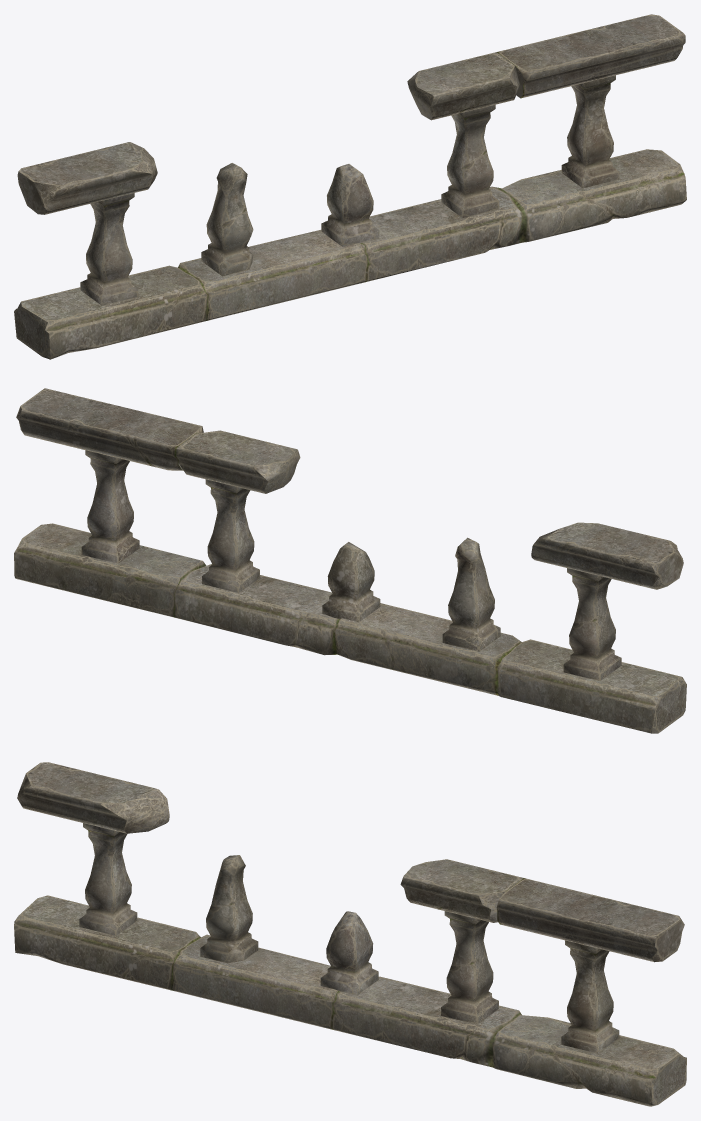
File: SM_Ballustrade_Ruined_01.fbx
The picture shows the model from 3 angles, top to bottom: view 1: azimuth 30°, elevation 25°; view 2: azimuth 150°, elevation 25°; view 3: azimuth 330°, elevation 25°; orthographic projection.
Visible parts, largest first — view 1: SM_Ballustrade_Ruined_01_LOD0; view 2: SM_Ballustrade_Ruined_01_LOD0; view 3: SM_Ballustrade_Ruined_01_LOD0.
Boxes of the visible parts, x1=… form: SM_Ballustrade_Ruined_01_LOD0: x1=14, y1=14, x2=686, y2=359; SM_Ballustrade_Ruined_01_LOD0: x1=14, y1=388, x2=686, y2=733; SM_Ballustrade_Ruined_01_LOD0: x1=14, y1=762, x2=686, y2=1106.
Size of what is drawn, in the model's own units: 400 by 101 by 37.49.
